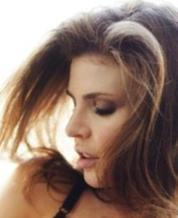face: (65, 91, 116, 170)
